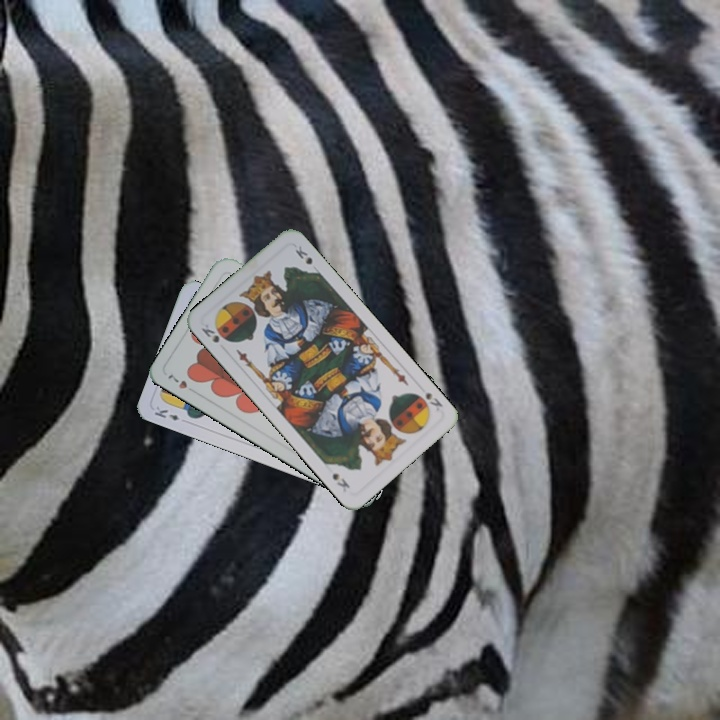EK: (150, 402, 182, 423)
H7: (164, 370, 200, 395)
SK: (410, 388, 445, 414), (197, 320, 222, 345)
